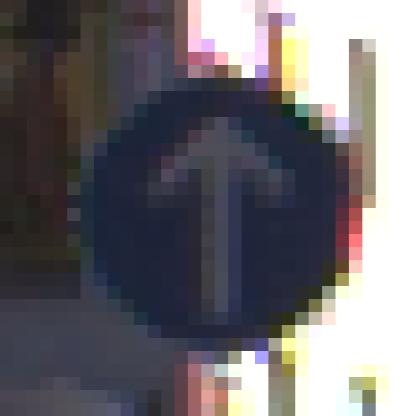AheadOnly: (68, 66, 350, 339)
